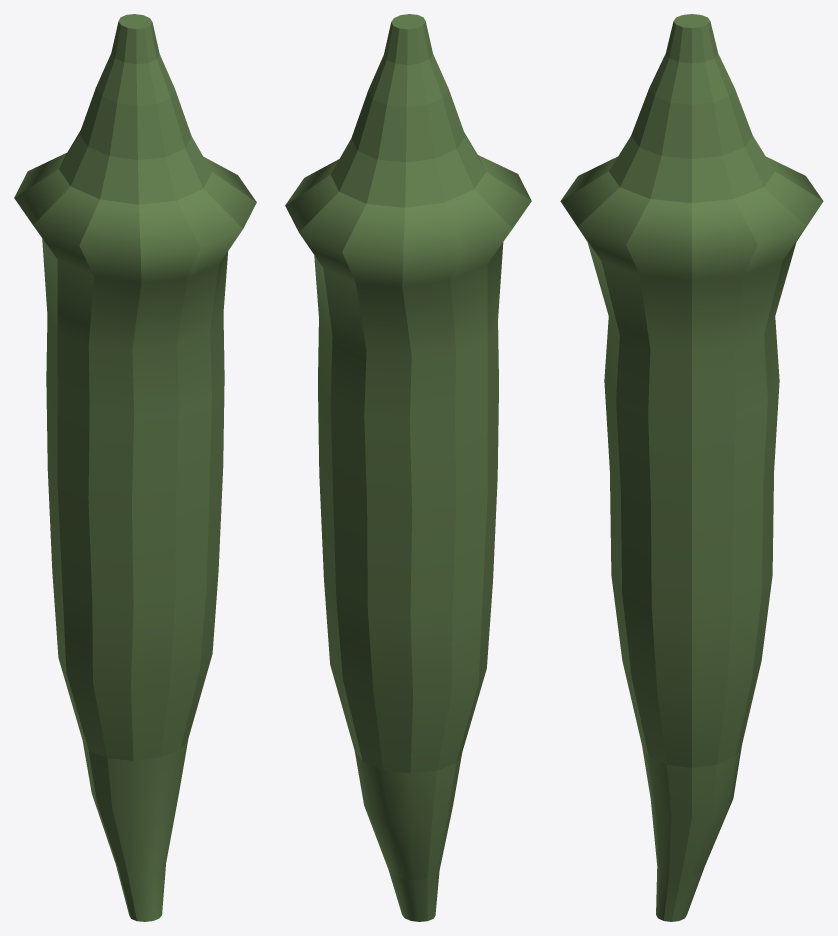
File: okra.fbx
3 renders of one model, left to right at view 1: azimuth 30°, elevation 25°; view 2: azimuth 150°, elevation 25°; view 3: azimuth 270°, elevation 25°, orthographic.
Parts seen in each view (by area): view 1: pCylinder1; view 2: pCylinder1; view 3: pCylinder1.
Boxes of the visible parts, x1=… form: pCylinder1: x1=14, y1=14, x2=256, y2=921; pCylinder1: x1=285, y1=14, x2=531, y2=921; pCylinder1: x1=560, y1=14, x2=823, y2=921.
Bounding box in the file's own units: 1.2 × 4.94 × 1.32.
